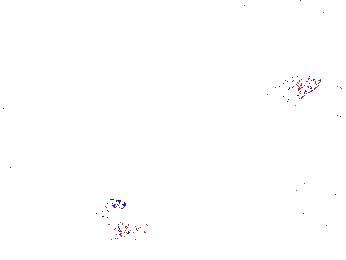glassfish: (253, 74, 324, 127), (101, 195, 129, 232)
